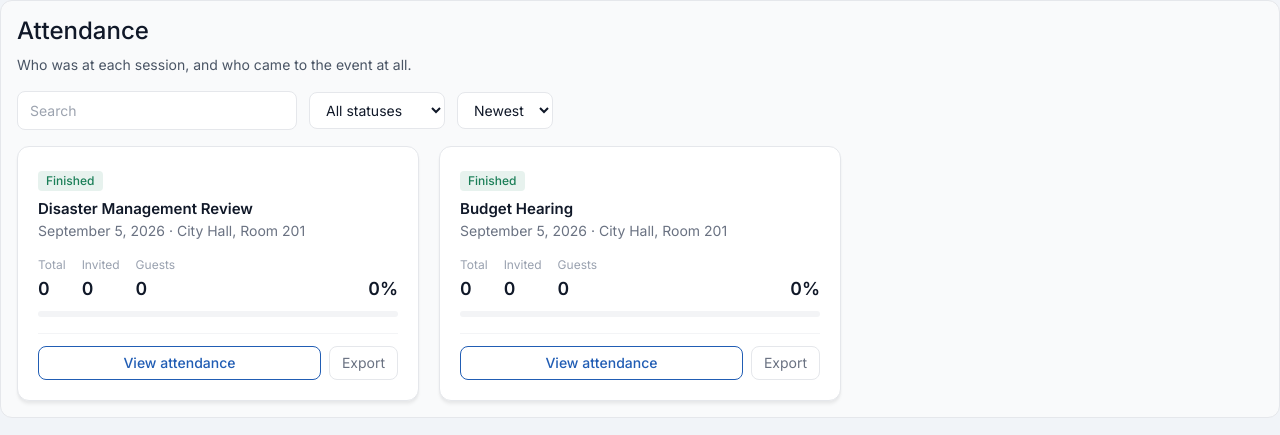
Test: the attendance grid › narrows the grid to what is searched for
This screenshot has width=1280, height=435.
Expected: the heading "Budget Hearing" is shown, [460, 199, 573, 218]
Type "budget" into the field named "Search events" at (157, 110), box [17, 91, 297, 130]
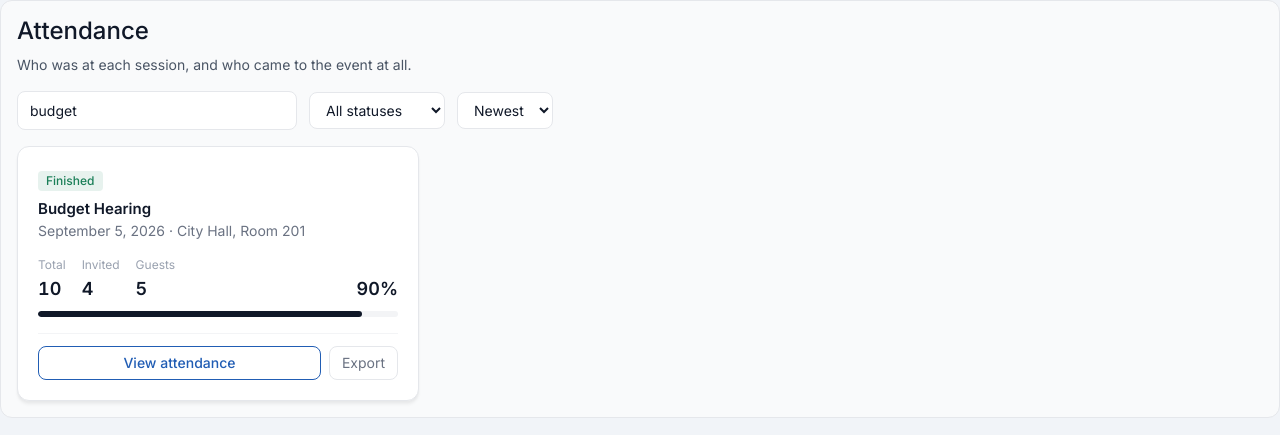
Expected: the heading "Budget Hearing" is shown, [38, 199, 151, 218]
Expected: the heading "Disaster Management Review" is gone
